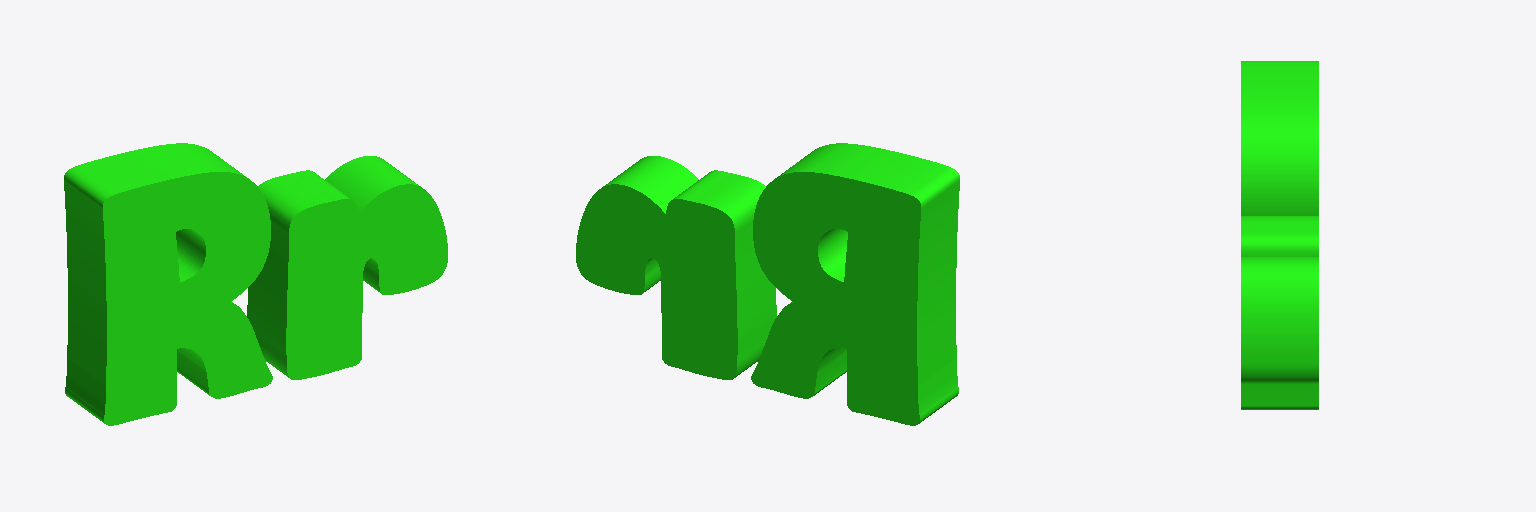
Rendered from Letter_r.obj.
3 views of the same model, side by side, from view 1: azimuth 30°, elevation 25°; view 2: azimuth 150°, elevation 25°; view 3: azimuth 270°, elevation 25° (orthographic).
Visible parts, largest first — view 1: Text; view 2: Text; view 3: Text.
Part boxes in pixels (bbox=[...]): Text: bbox=[64, 143, 447, 425]; Text: bbox=[576, 143, 959, 425]; Text: bbox=[1241, 61, 1318, 409].
Size of the model in its own units: 1.03 by 0.6606 by 0.2.